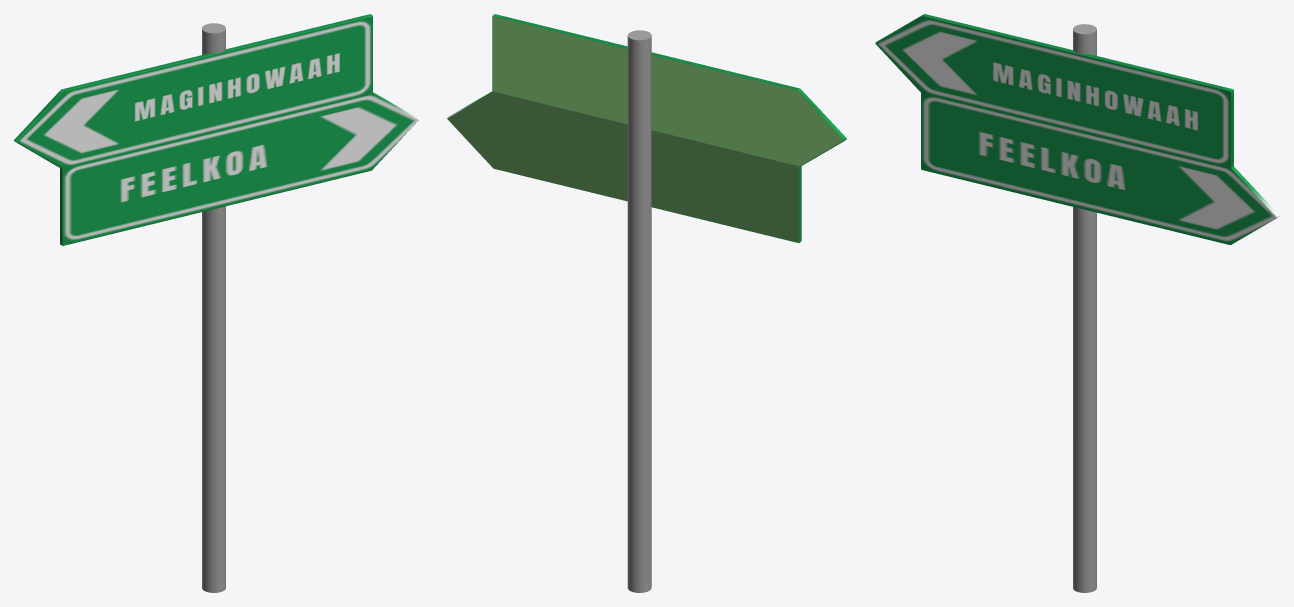
Rendered from INTERSECTION.fbx.
3 renders of one model, left to right at view 1: azimuth 30°, elevation 25°; view 2: azimuth 150°, elevation 25°; view 3: azimuth 330°, elevation 25°, orthographic.
Parts seen in each view (by area): view 1: pCylinder31; view 2: pCylinder31; view 3: pCylinder31.
Boxes of the visible parts, x1,y1,x2,y2 form: pCylinder31: (14,14,418,592); pCylinder31: (447,14,846,592); pCylinder31: (875,14,1279,592).
Size of the model in its own units: 6.11 by 8.11 by 0.3257.
Materials: 5 (2 with a texture image).
